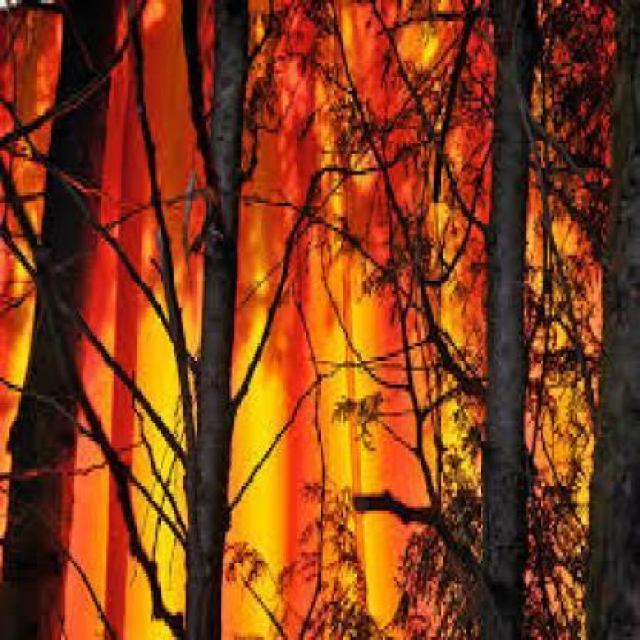Fire: (22, 146, 544, 640)
